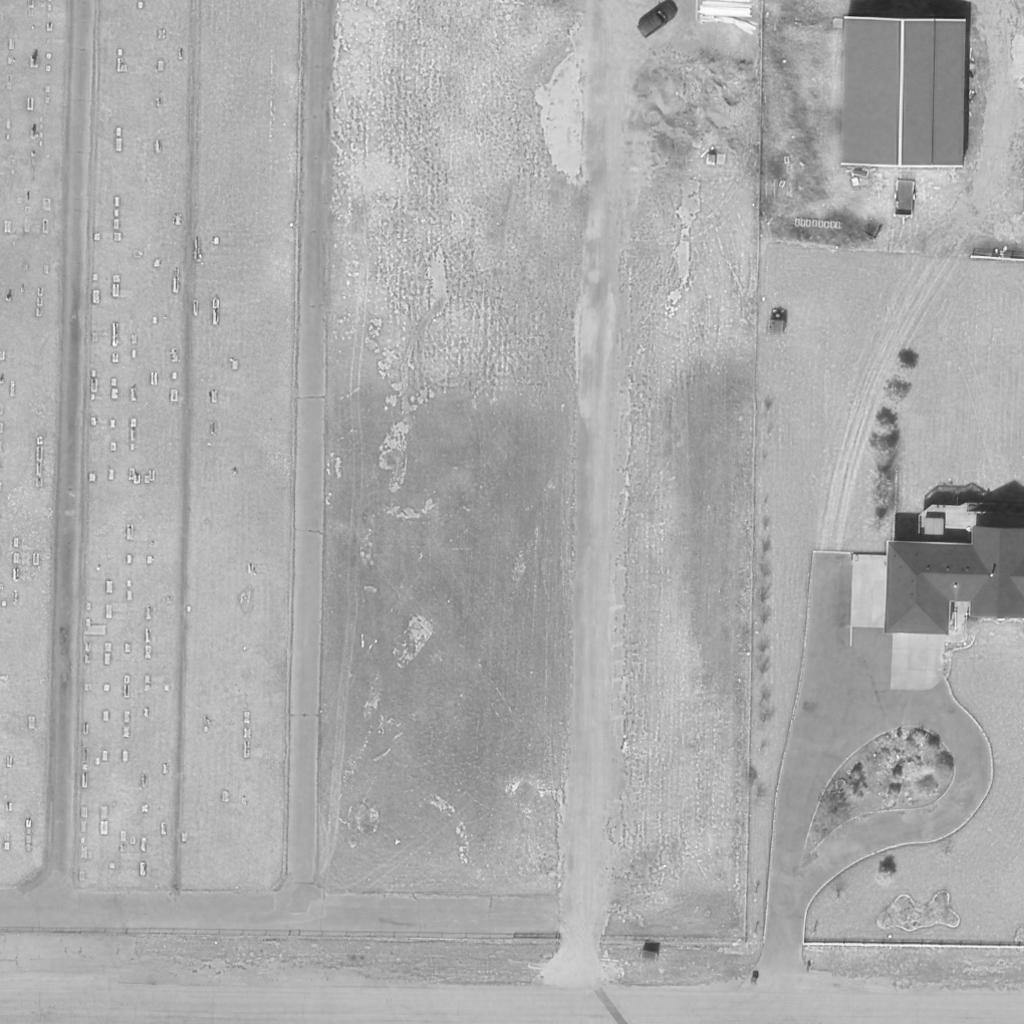vehicle: (636, 3, 680, 39)
